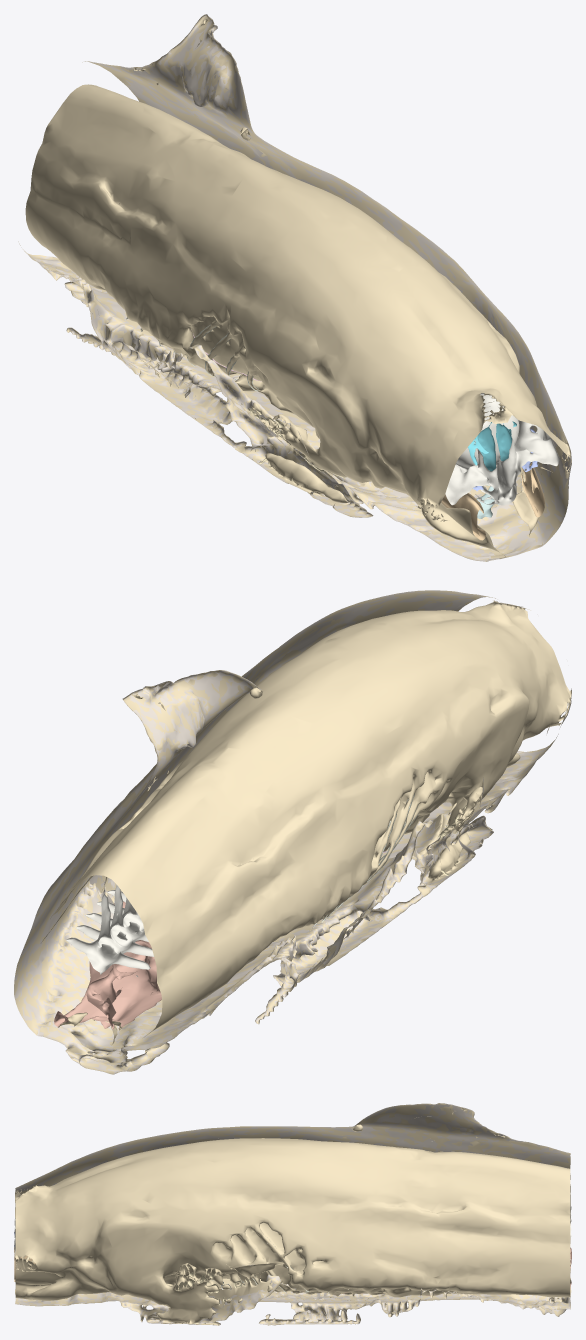
The model's file is organs.glb.
3 views of the same model, one above another, from view 1: azimuth 30°, elevation 25°; view 2: azimuth 150°, elevation 25°; view 3: azimuth 270°, elevation 25° (orthographic). The views are drawn at different scales.
Visible parts, largest first — view 1: skin-blubber, body-surface, skull, mandible, nasal-passages; view 2: skin-blubber, body-surface, abdominal-cavity, vertebral-column; view 3: skin-blubber, body-surface, flipper-left.
Part boxes in pixels (left/top/right/bottom): skin-blubber: left=18, top=14, right=571, bottom=561; body-surface: left=21, top=14, right=571, bottom=561; skull: left=445, top=393, right=559, bottom=505; mandible: left=441, top=462, right=544, bottom=540; nasal-passages: left=468, top=421, right=516, bottom=485; skin-blubber: left=14, top=590, right=571, bottom=1074; body-surface: left=14, top=590, right=571, bottom=1074; abdominal-cavity: left=54, top=901, right=291, bottom=1029; vertebral-column: left=66, top=885, right=153, bottom=976; skin-blubber: left=14, top=1103, right=571, bottom=1325; body-surface: left=15, top=1103, right=571, bottom=1325; flipper-left: left=151, top=1266, right=270, bottom=1324.
Bounding box in the file's own units: 497 × 590 × 1397.
